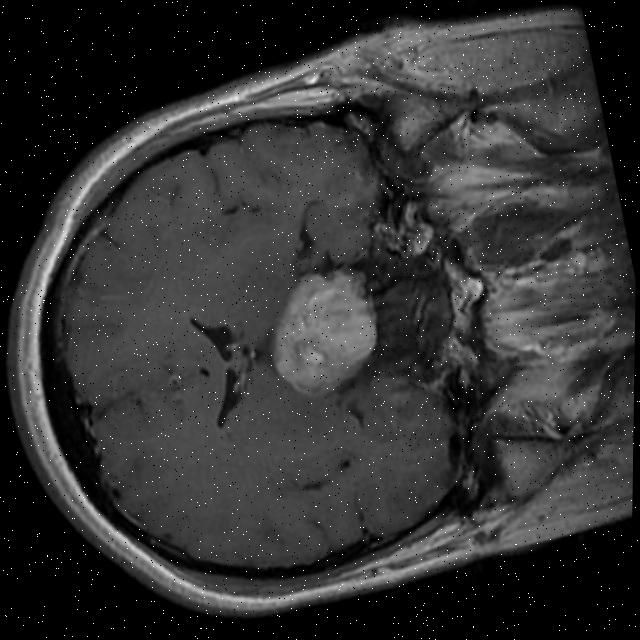Pituitary: (255, 261, 390, 400)
